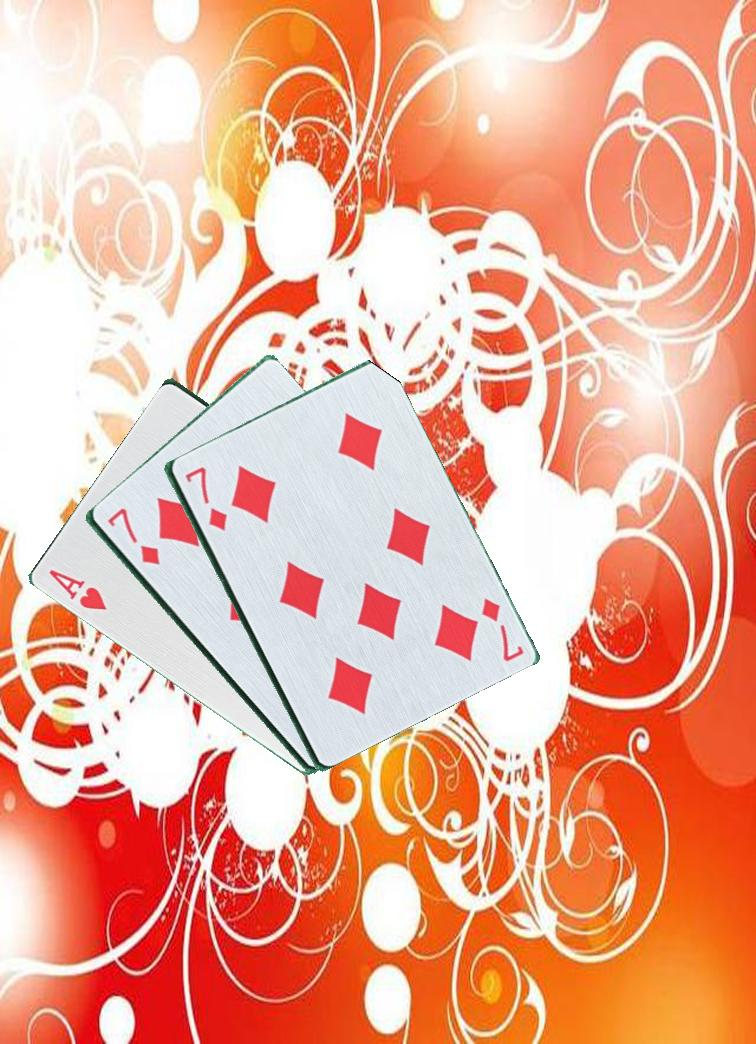7d: (468, 594, 534, 665), (102, 505, 163, 572), (180, 463, 229, 538)
ah: (44, 566, 109, 617)
